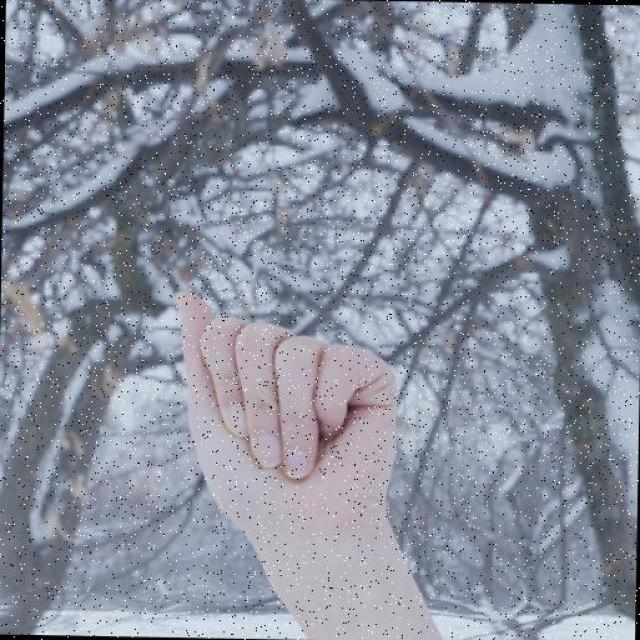A: (156, 280, 407, 540)
